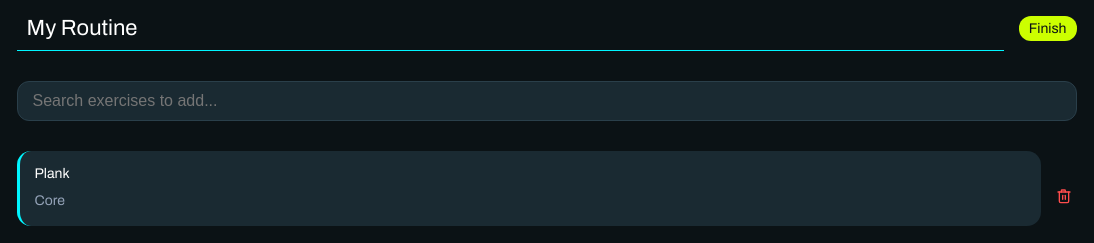
EditRoutinePage › does not show results until 2 characters have been typed
The width and height of the screenshot is (1094, 243).
Type "s" into the search field with placeholder "Search exercises to add...".
click(546, 101); type("s")  # box [16,81,1076,121]
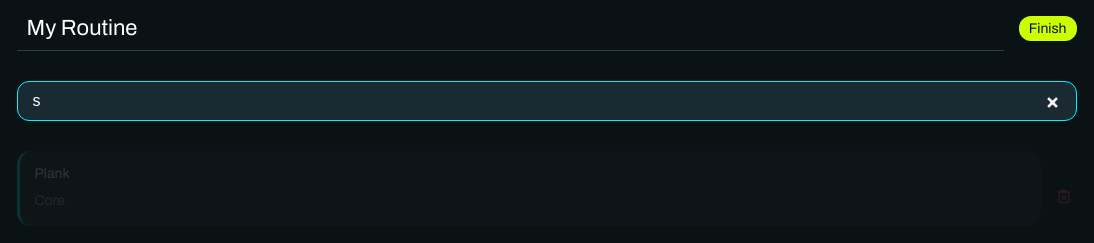
Check: the text "Side plank" is not shown
Type "i" into the search field with placeholder "Search exercises to add...".
click(546, 101); type("i")  # box [16,81,1076,121]
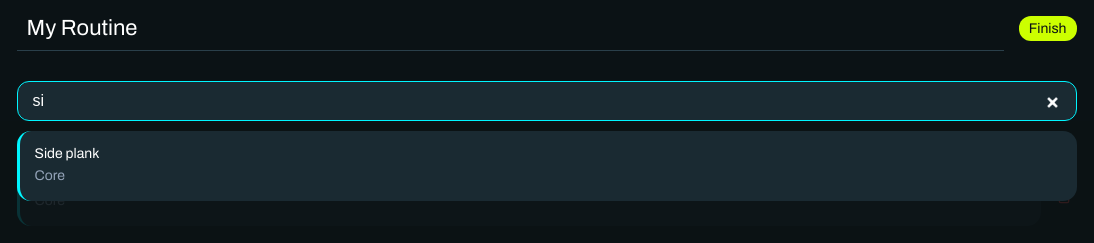
Check: the text "Side plank" is shown, box [34,146,99,161]
